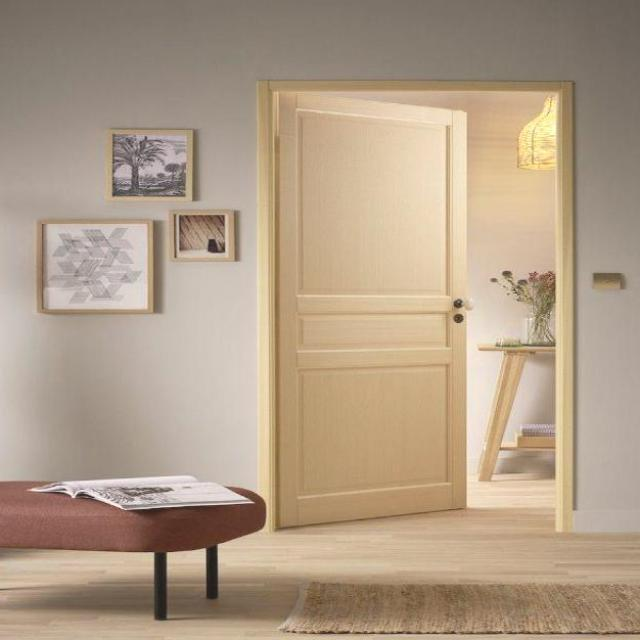door: (273, 91, 469, 529)
